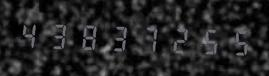eight: (75, 17, 103, 54)
five: (191, 22, 219, 58), (220, 23, 248, 59)
four: (17, 15, 45, 52)
seven: (133, 19, 161, 56)
three: (46, 16, 74, 53), (104, 18, 132, 55)
two: (162, 20, 190, 57)
